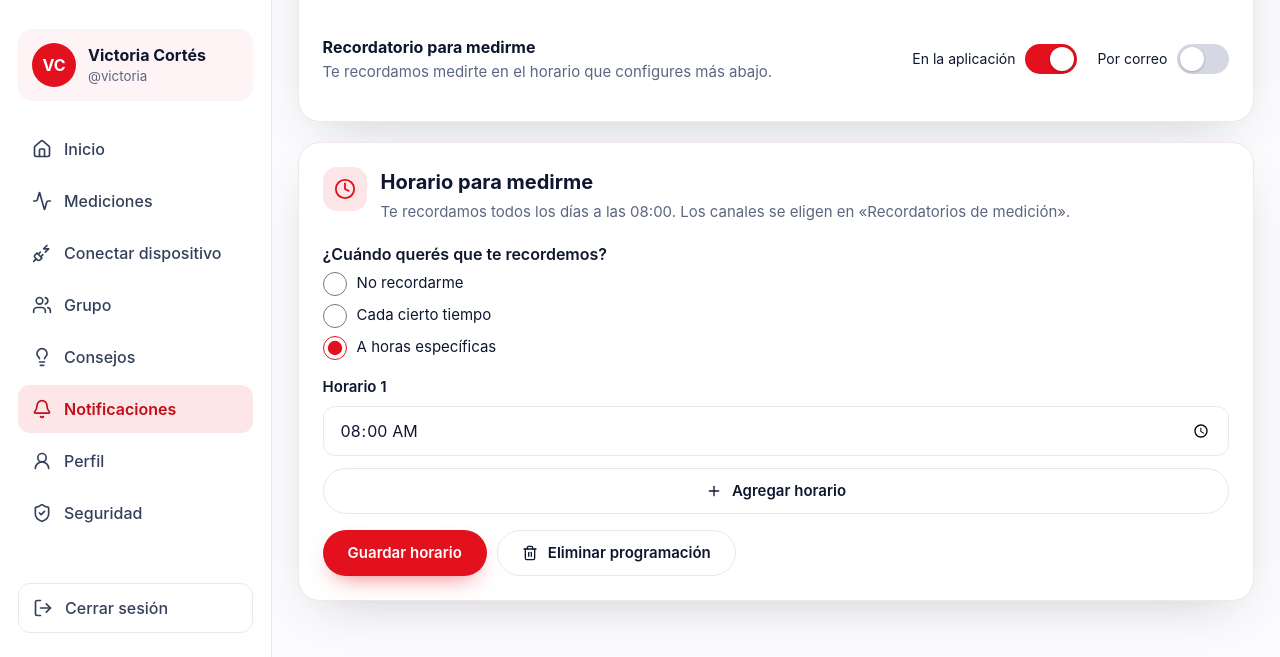
Test: Preferencias de notificaciones › elimina la programación guardada
The width and height of the screenshot is (1280, 657).
(page scrolled)
What coordinates should you click on to do the following:
click the button "Eliminar programación"
I would click on:
 (616, 553)
Its box is [497, 530, 736, 576].
(page scrolled)
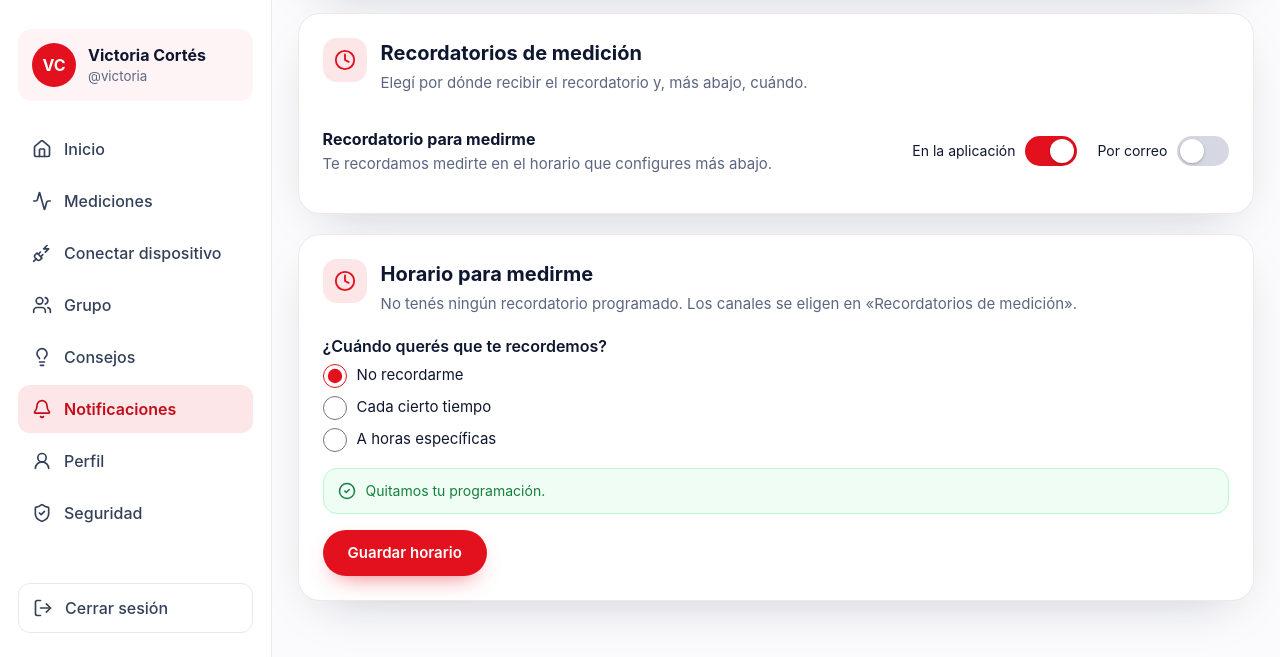
Expected: the text "Quitamos tu programación." is shown, [366, 481, 545, 501]
Expected: the button "Eliminar programación" is gone
